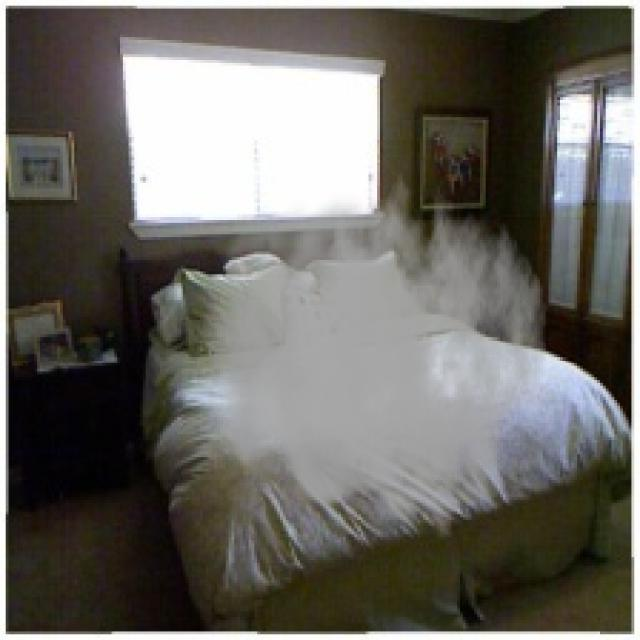Smoke: (202, 155, 548, 540)
